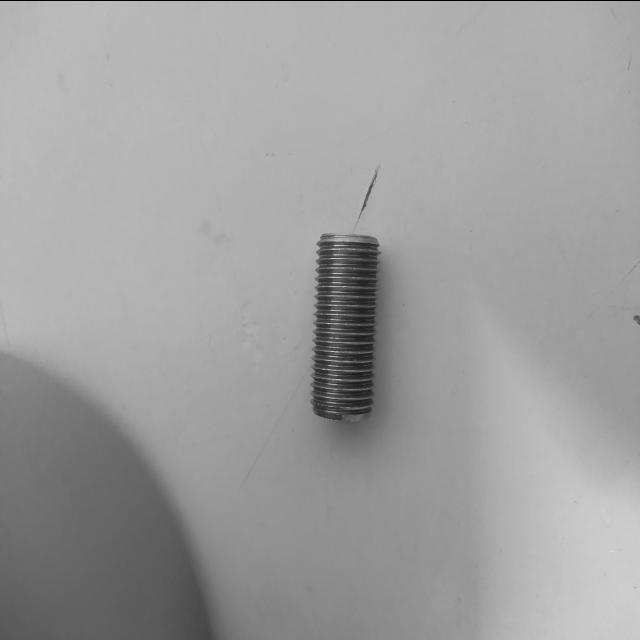Normal: (308, 231, 382, 419)
